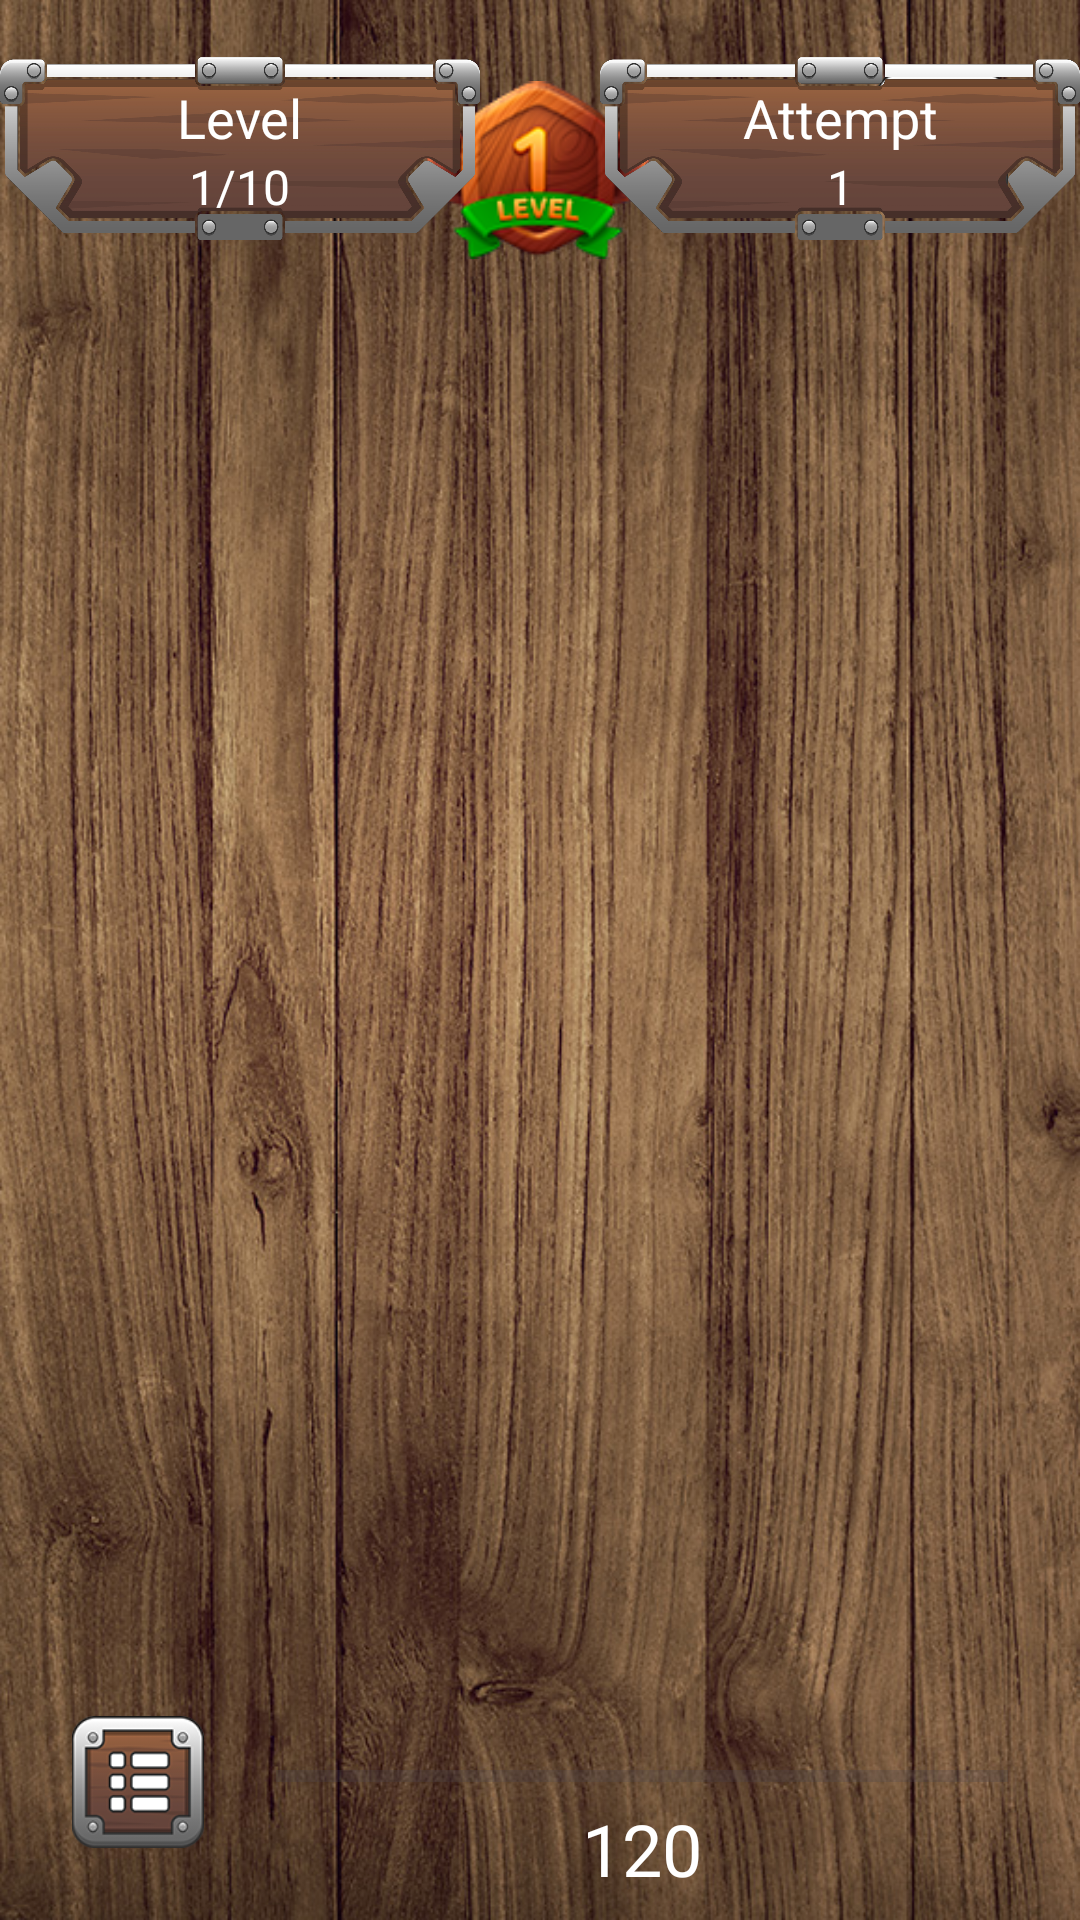

Icon bounding boxes for this 1080px x 1920px phone screenshot, format (x1, y1, x2, y2):
menu: (48, 1692, 228, 1872)
